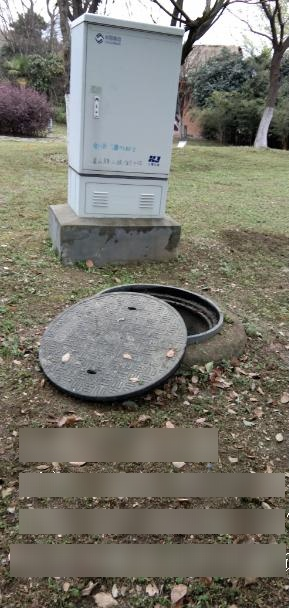uncovered: (39, 282, 225, 397)
